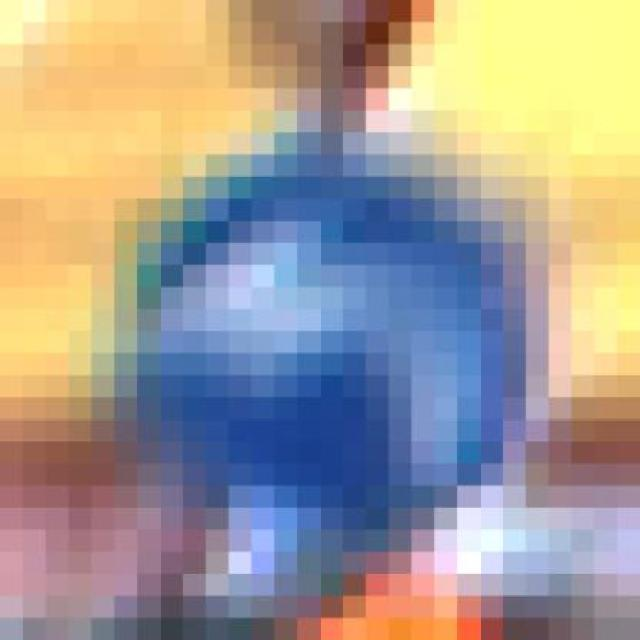Turn left ahead: (91, 132, 572, 574)
